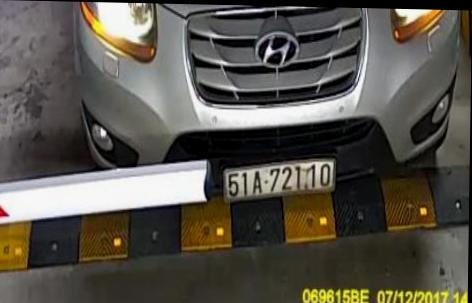License_Plate: (218, 150, 342, 210)
